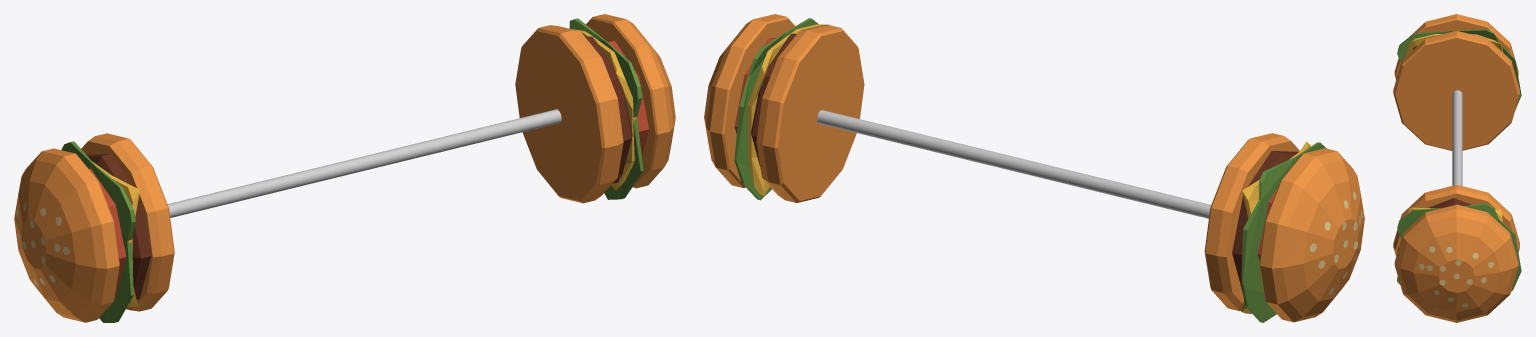
3 renders of one model, left to right at view 1: azimuth 30°, elevation 25°; view 2: azimuth 150°, elevation 25°; view 3: azimuth 270°, elevation 25°, orthographic. The views are drawn at different scales.
Parts seen in each view (by area): view 1: hamburger, Cylinder; view 2: hamburger, Cylinder; view 3: hamburger, Cylinder.
Boxes of the visible parts, x1,y1,x2,y2 form: hamburger: (14,14,675,322); Cylinder: (167,109,561,217); hamburger: (704,14,1364,322); Cylinder: (817,110,1211,218); hamburger: (1393,14,1521,322); Cylinder: (1452,90,1462,185).
Bounding box in the file's own units: 1.82 × 0.462 × 0.4571.
Materials: 2 (1 with a texture image).
